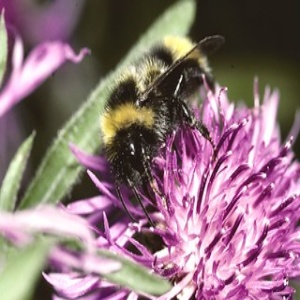bee: (99, 34, 226, 221)
